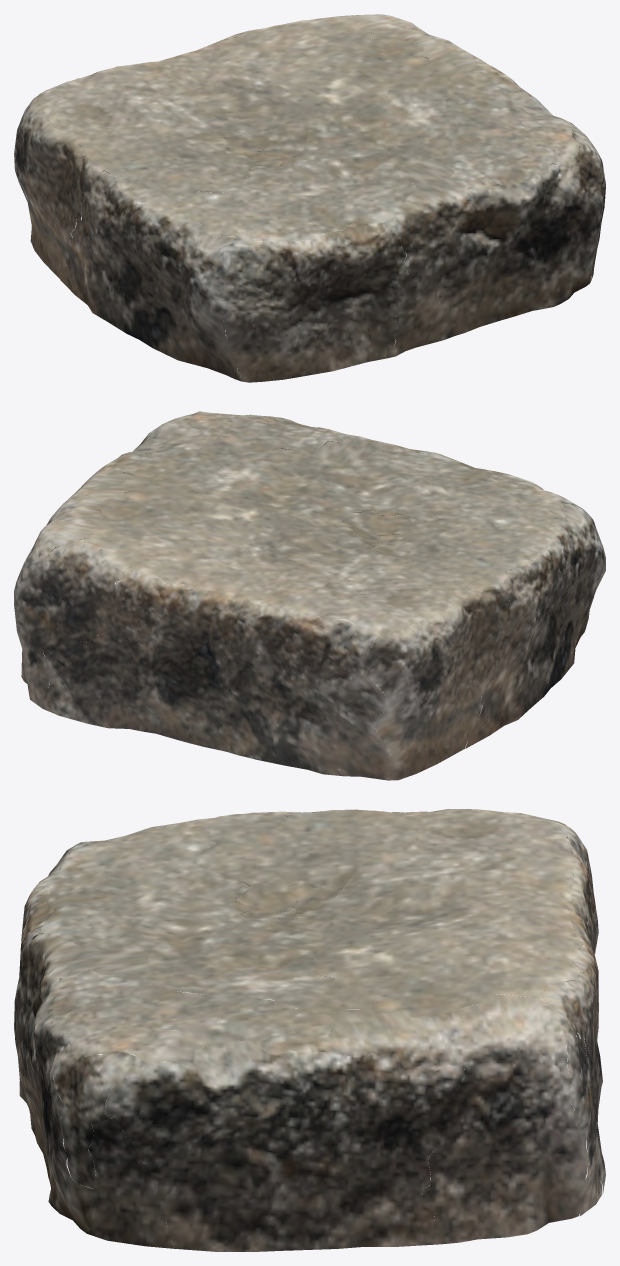
File: Stepping_stones_5.glb
The picture shows the model from 3 angles, top to bottom: view 1: azimuth 30°, elevation 25°; view 2: azimuth 150°, elevation 25°; view 3: azimuth 270°, elevation 25°; orthographic projection. The views are drawn at different scales.
Visible parts, largest first — view 1: Object_2.006; view 2: Object_2.006; view 3: Object_2.006.
Part boxes in pixels (x1,y1,x2,y2): Object_2.006: (14,14,605,382); Object_2.006: (14,411,605,780); Object_2.006: (14,809,605,1251).
Bounding box in the file's own units: 0.2086 × 0.0696 × 0.1898.
1 material, 1 textured.
